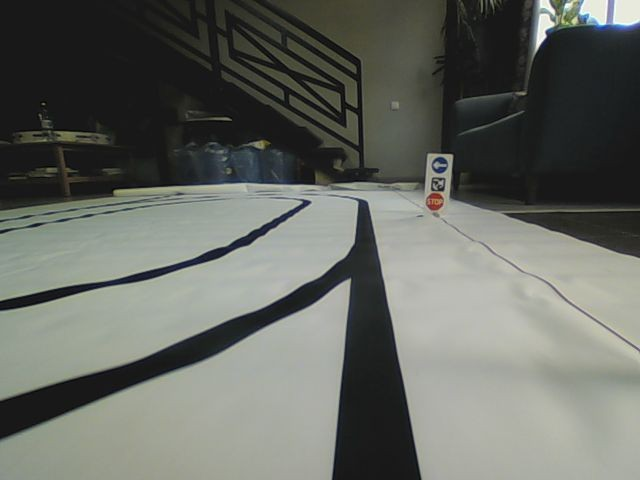Stop: (426, 194, 444, 211)
